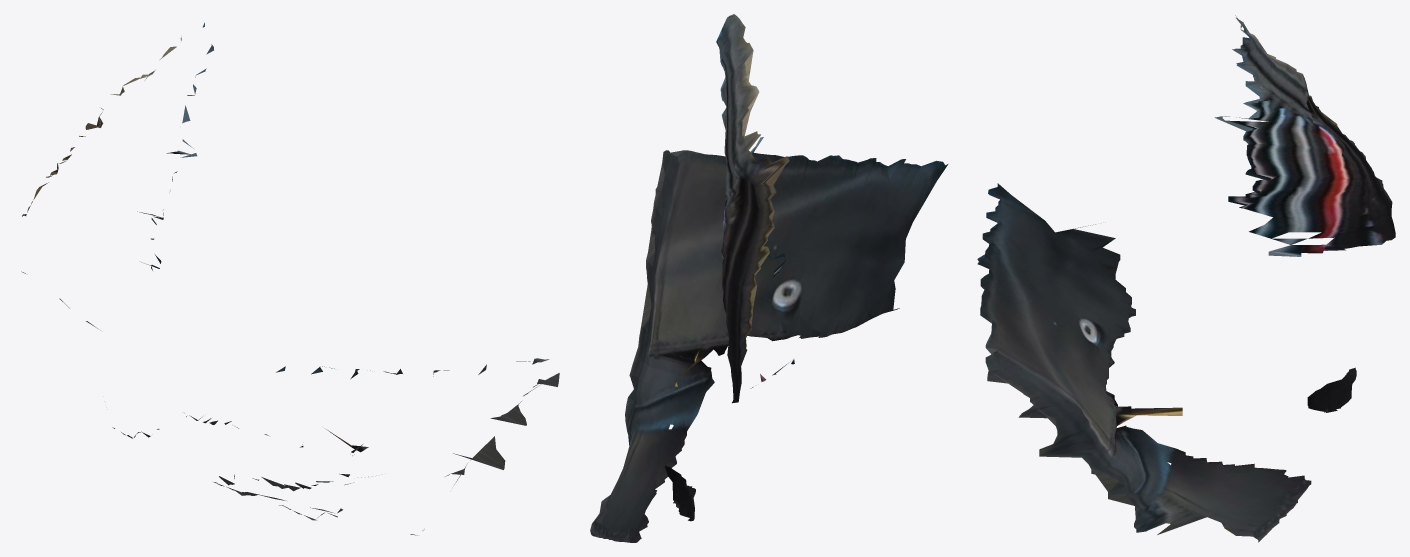
Rendered from observed-surface.glb.
The picture shows the model from 3 angles, left to right: view 1: azimuth 30°, elevation 25°; view 2: azimuth 150°, elevation 25°; view 3: azimuth 270°, elevation 25°; orthographic projection. The views are drawn at different scales.
Visible parts, largest first — view 1: geometry_0; view 2: geometry_0; view 3: geometry_0.
Boxes of the visible parts, x1,y1,x2,y2 form: geometry_0: (21, 22, 559, 535); geometry_0: (590, 14, 948, 542); geometry_0: (977, 15, 1395, 542).
Bounding box in the file's own units: 0.3818 × 0.631 × 0.5043.
1 material, 1 textured.
